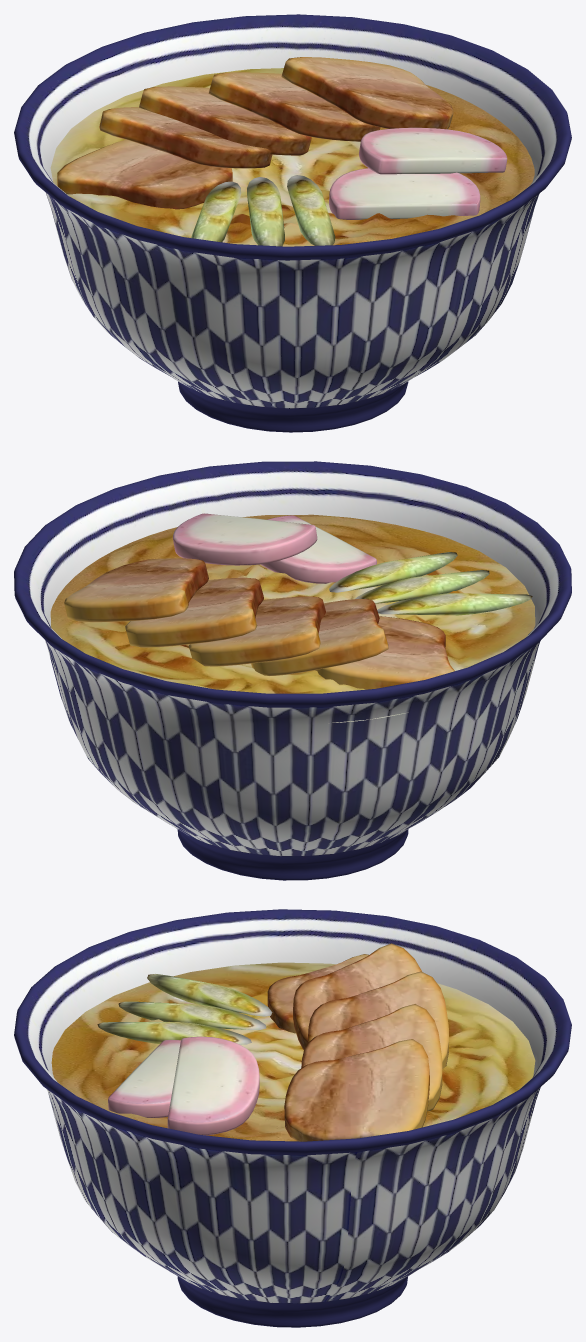
The model's file is kamoudon_comp.glb.
3 renders of one model, top to bottom at view 1: azimuth 30°, elevation 25°; view 2: azimuth 150°, elevation 25°; view 3: azimuth 270°, elevation 25°, orthographic.
Parts seen in each view (by area): view 1: KamoUdon; view 2: KamoUdon; view 3: KamoUdon.
Boxes of the visible parts, x1,y1,x2,y2 form: KamoUdon: (14, 14, 571, 432); KamoUdon: (14, 461, 571, 880); KamoUdon: (14, 909, 571, 1327).
Bounding box in the file's own units: 0.1772 × 0.0941 × 0.1772.
Materials: 2 (2 with a texture image).
